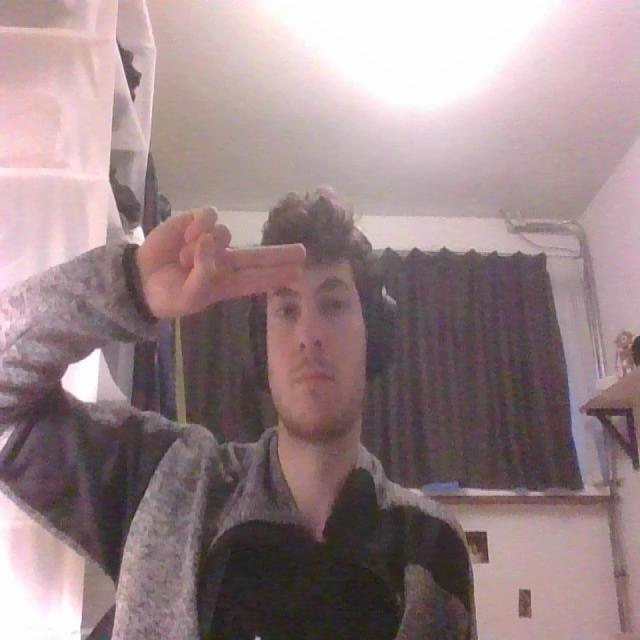right: (134, 201, 312, 323)
